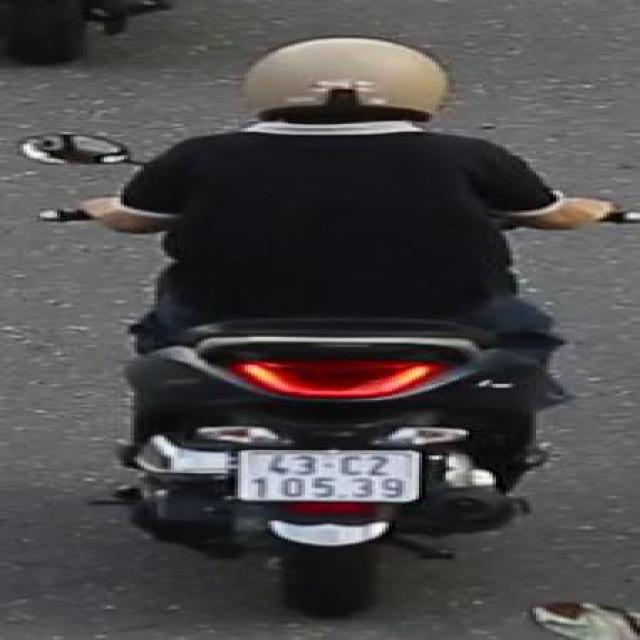LP: (236, 443, 424, 507)
helmet: (224, 28, 456, 151)
